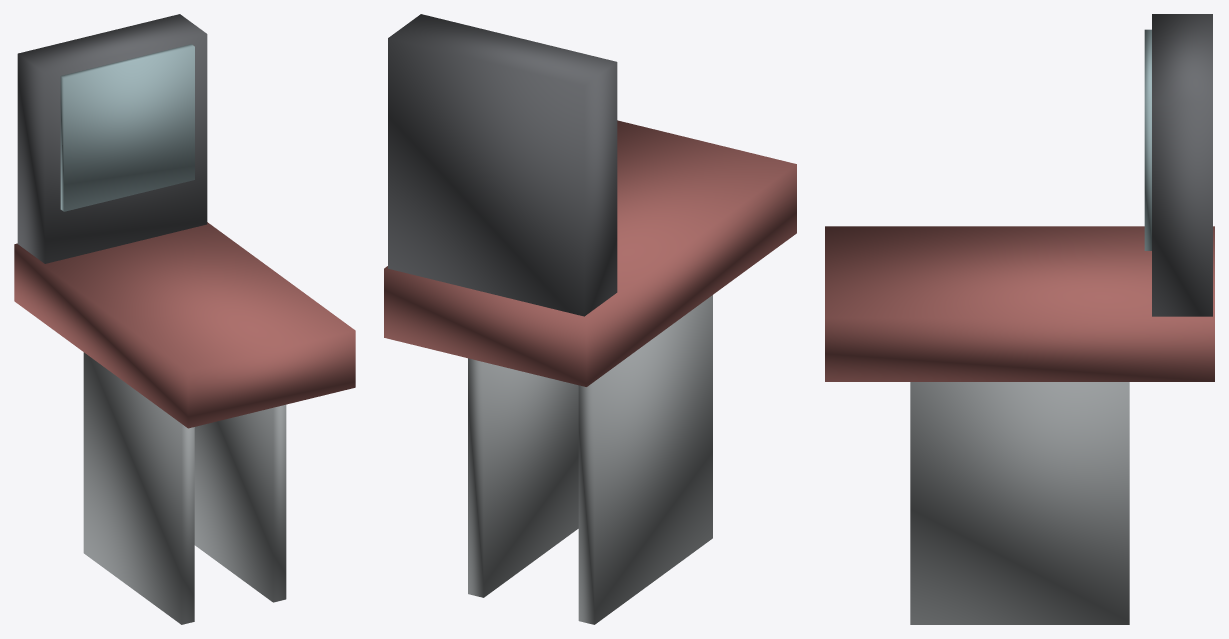
File: pinball_machine__tall.glb
The picture shows the model from 3 angles, left to right: view 1: azimuth 30°, elevation 25°; view 2: azimuth 150°, elevation 25°; view 3: azimuth 270°, elevation 25°; orthographic projection. The views are drawn at different scales.
Visible parts, largest first — view 1: world; view 2: world; view 3: world.
Boxes of the visible parts, <box> form: world: <box>14,14,355,624</box>; world: <box>384,14,796,624</box>; world: <box>825,14,1214,624</box>.
Size of the model in its own units: 0.64 by 1.75 by 1.15.
